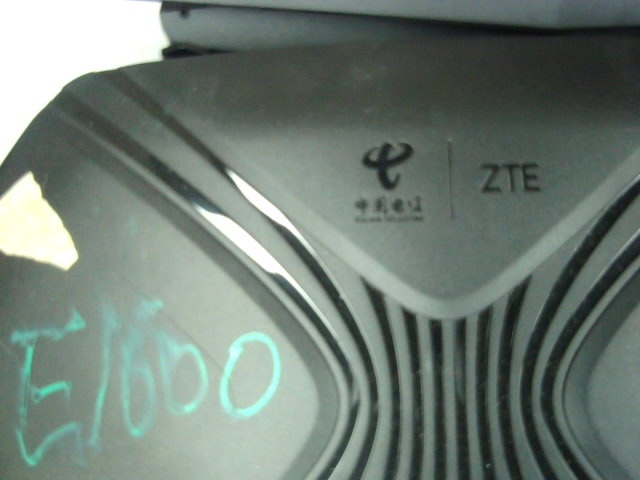AX_ZTEChinaTelecom: (344, 140, 552, 223)
